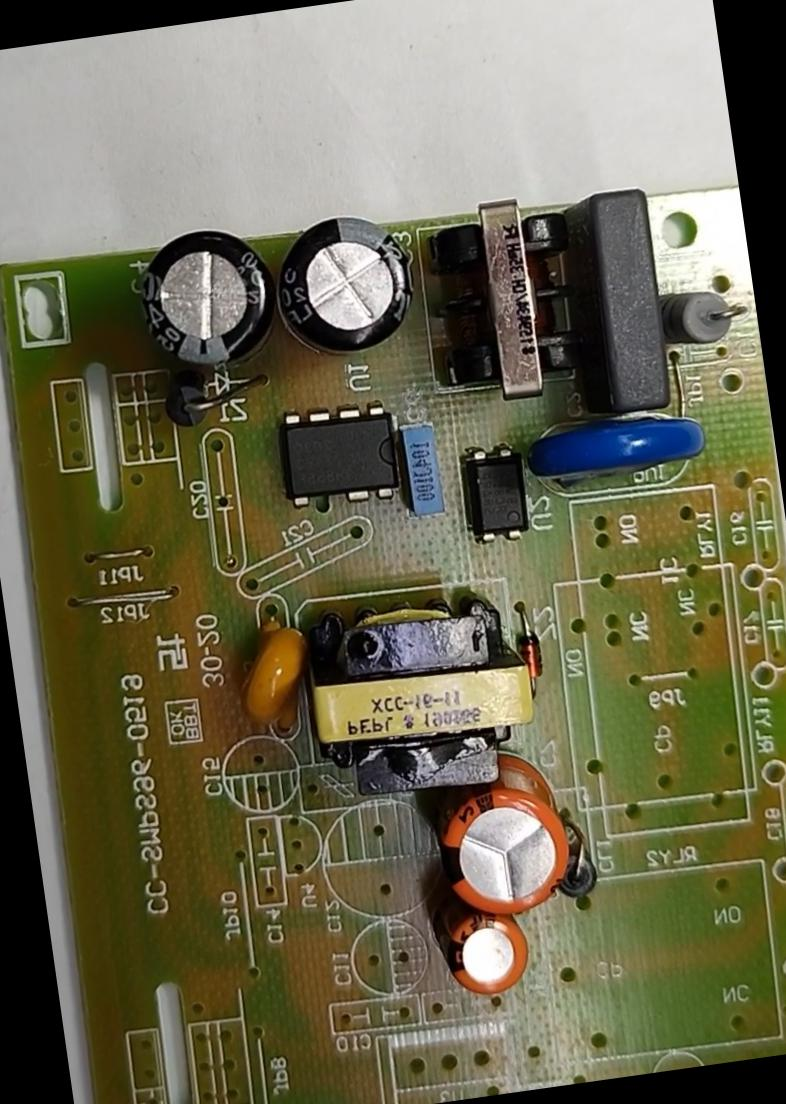Cap1: (417, 742, 593, 926)
Cap2: (420, 887, 541, 1010)
Cap3: (264, 207, 428, 370)
Cap4: (124, 215, 294, 385)
MOSFET: (264, 392, 412, 520)
Mov: (505, 390, 712, 502)
Resistor: (648, 276, 756, 355)
Transformer: (278, 578, 552, 817), (414, 188, 595, 418)
